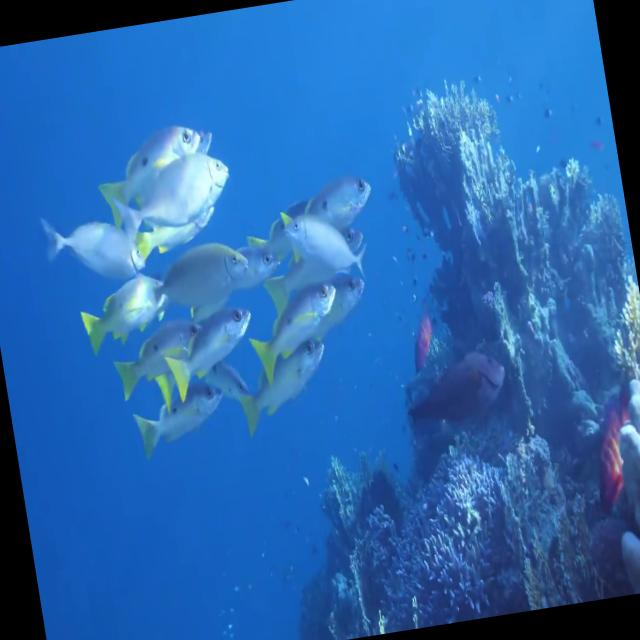fish: (240, 172, 382, 270), (110, 148, 238, 253), (94, 122, 215, 223), (242, 282, 344, 381), (234, 335, 334, 430), (162, 306, 263, 400), (40, 202, 146, 290), (145, 240, 254, 322), (278, 198, 371, 292), (128, 380, 234, 456), (76, 267, 169, 349)
